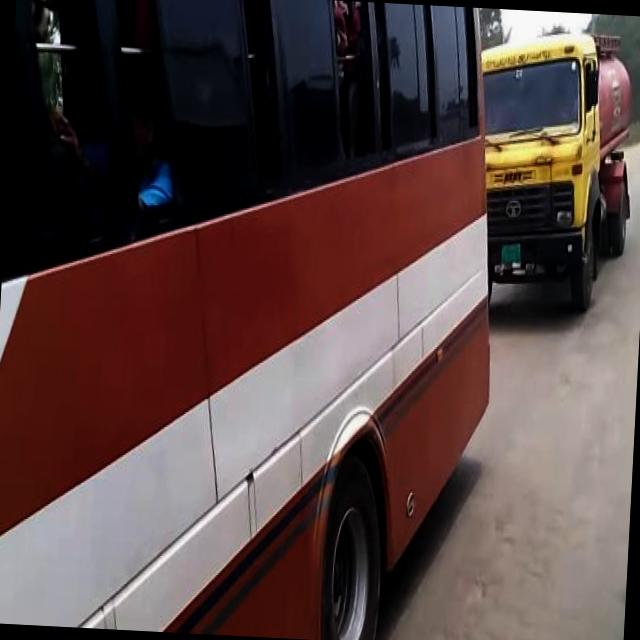bus: (0, 0, 515, 640)
truck: (466, 20, 640, 314)
